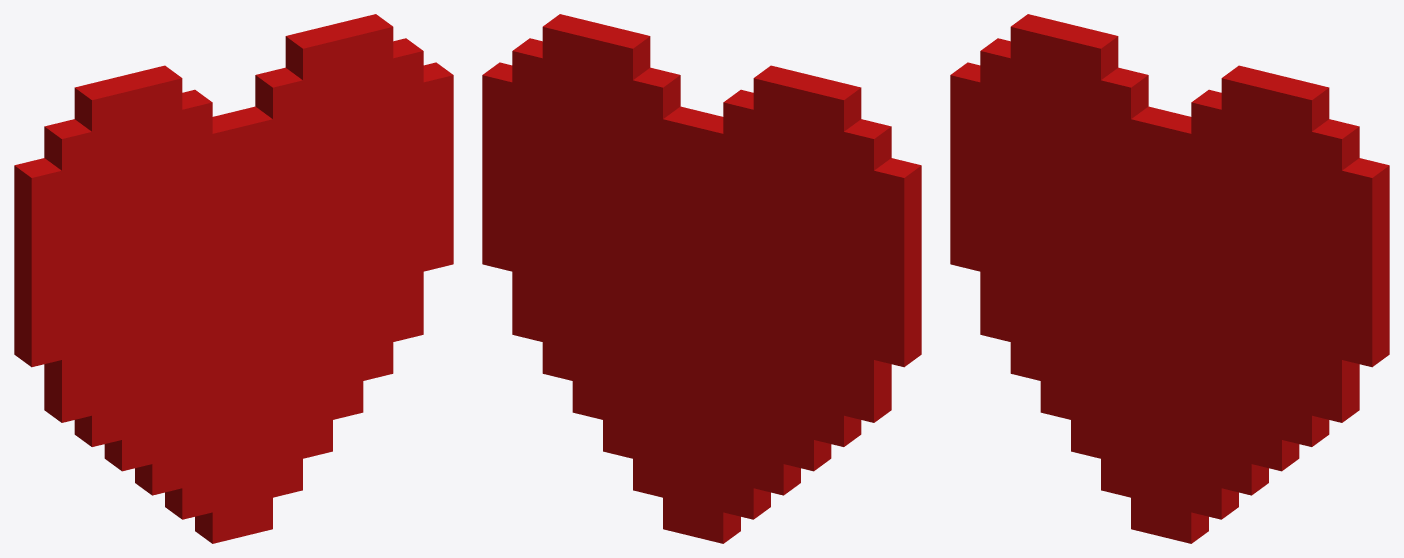
The model's file is Health.obj.
The picture shows the model from 3 angles, left to right: view 1: azimuth 30°, elevation 25°; view 2: azimuth 150°, elevation 25°; view 3: azimuth 330°, elevation 25°; orthographic projection.
Size of the model in its own units: 1.4 by 1.5 by 0.1.
Materials: 1 (1 with a texture image).
